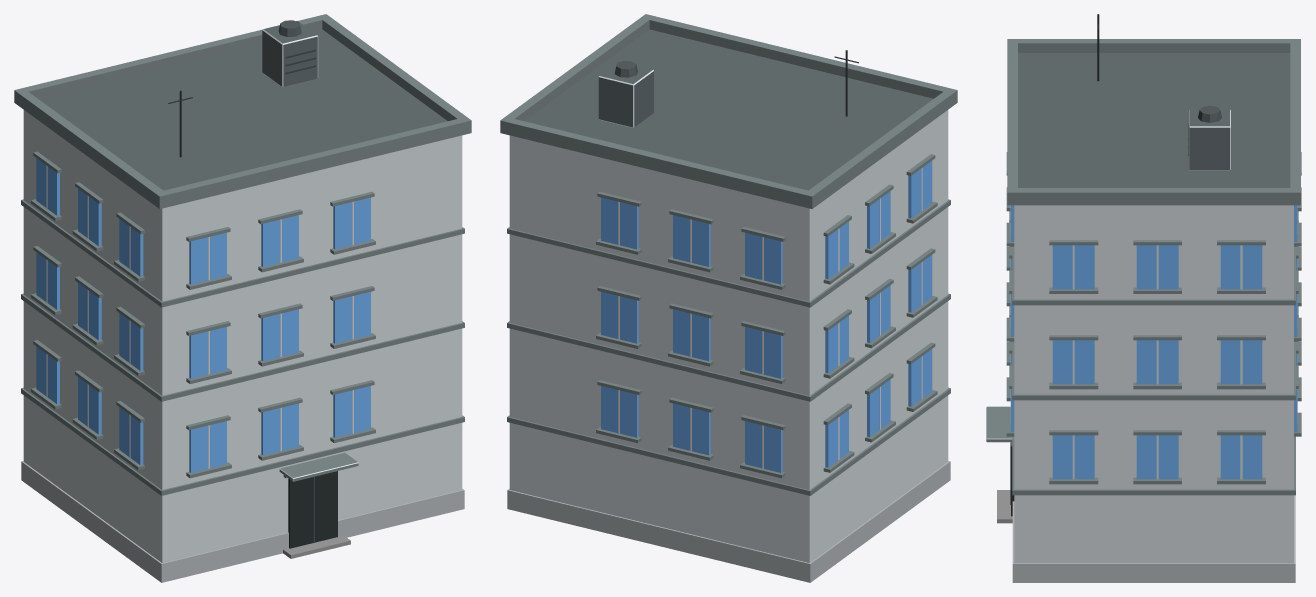
The model's file is cityBlock.glb.
3 views of the same model, side by side, from view 1: azimuth 30°, elevation 25°; view 2: azimuth 150°, elevation 25°; view 3: azimuth 270°, elevation 25° (orthographic).
Parts seen in each view (by area): view 1: cityBlock-m; view 2: cityBlock-m; view 3: cityBlock-m.
Boxes of the visible parts, x1,y1,x2,y2 form: cityBlock-m: (14, 14, 471, 582); cityBlock-m: (500, 14, 957, 582); cityBlock-m: (986, 14, 1301, 582).
Size of the model in its own units: 10.44 by 14.2 by 9.02.
